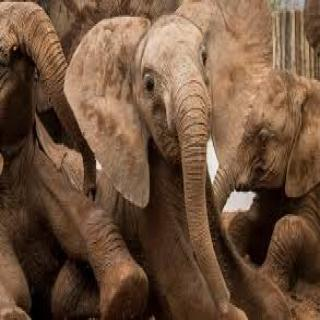Elephant: (64, 3, 264, 320)
